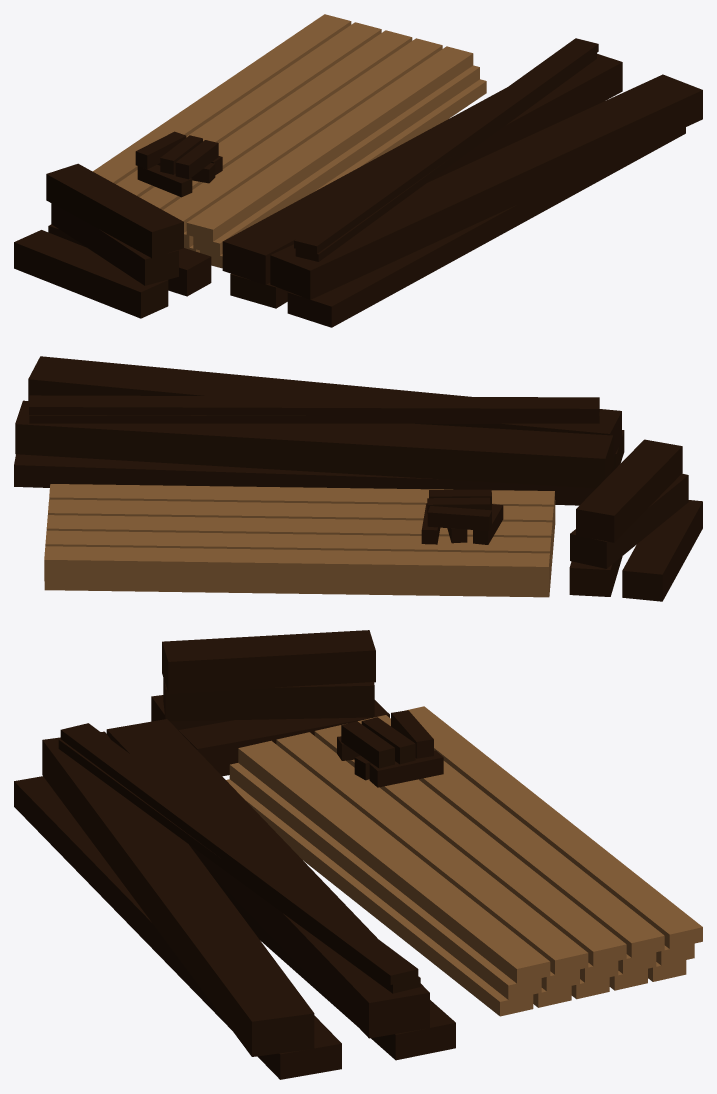
File: BridgeBroken.glb
3 views of the same model, one above another, from view 1: azimuth 30°, elevation 25°; view 2: azimuth 150°, elevation 25°; view 3: azimuth 270°, elevation 25° (orthographic). The views are drawn at different scales.
Parts seen in each view (by area): view 1: Cube; view 2: Cube; view 3: Cube.
Part boxes in pixels (x1,y1,x2,y2): Cube: (14,14,702,327); Cube: (14,356,702,601); Cube: (14,630,702,1079).
Bounding box in the file's own units: 10.4 × 1.22 × 7.96.
